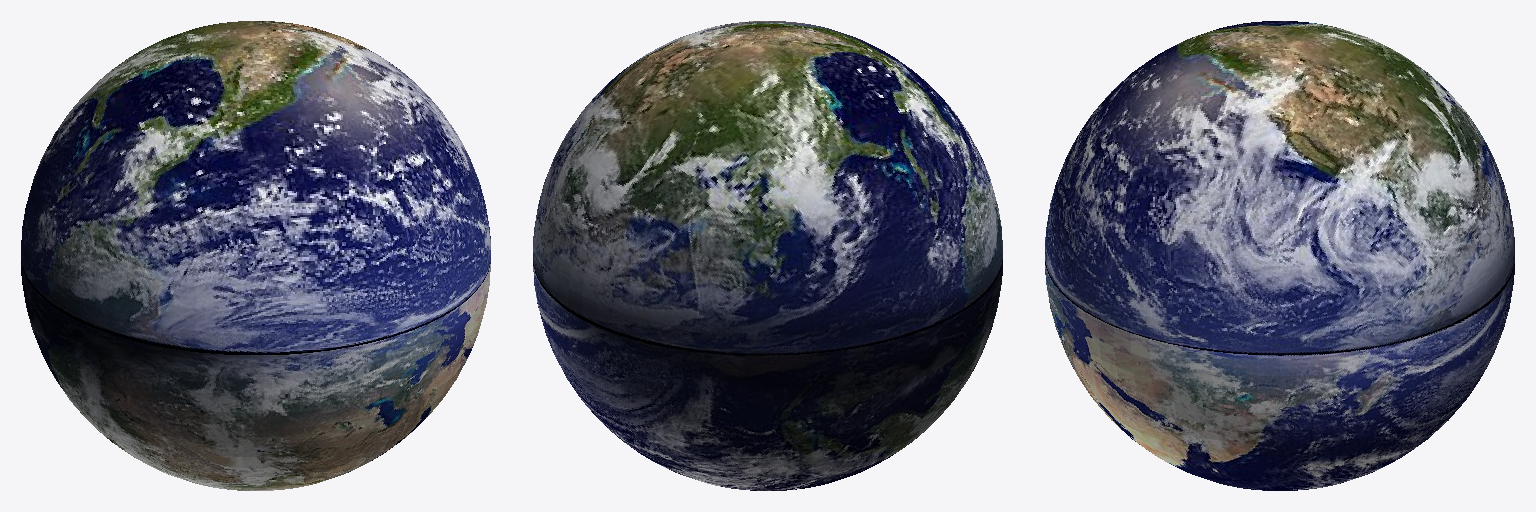
3 renders of one model, left to right at view 1: azimuth 30°, elevation 25°; view 2: azimuth 150°, elevation 25°; view 3: azimuth 270°, elevation 25°, orthographic.
Visible parts, largest first — view 1: Sphere; view 2: Sphere; view 3: Sphere.
Boxes of the visible parts, <box> form: Sphere: <box>21,21,490,490</box>; Sphere: <box>533,21,1002,490</box>; Sphere: <box>1045,21,1514,490</box>.
Size of the model in its own units: 6.53 by 6.53 by 6.53.
1 materials, 1 textured.